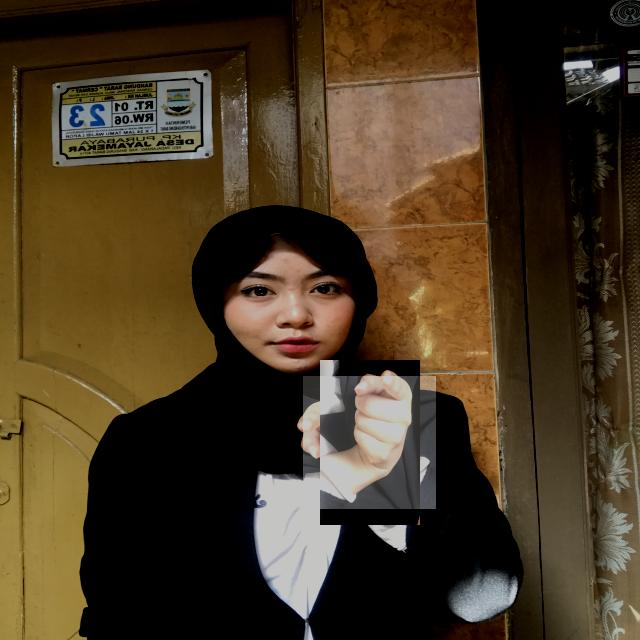kamu: (303, 376, 436, 509)
